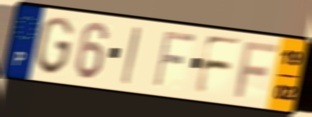6: (73, 20, 111, 81)
F: (192, 33, 245, 97), (151, 29, 199, 91), (233, 39, 280, 100)
G: (34, 15, 76, 78)
I: (119, 24, 142, 87)
